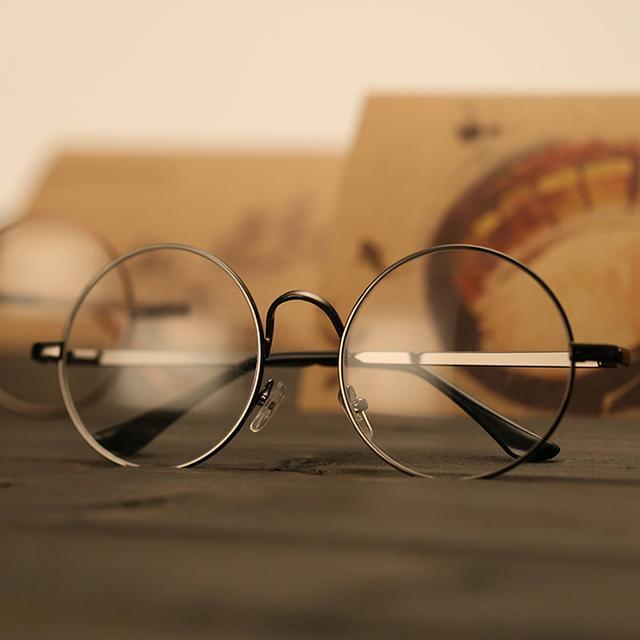glass: (32, 207, 605, 506)
